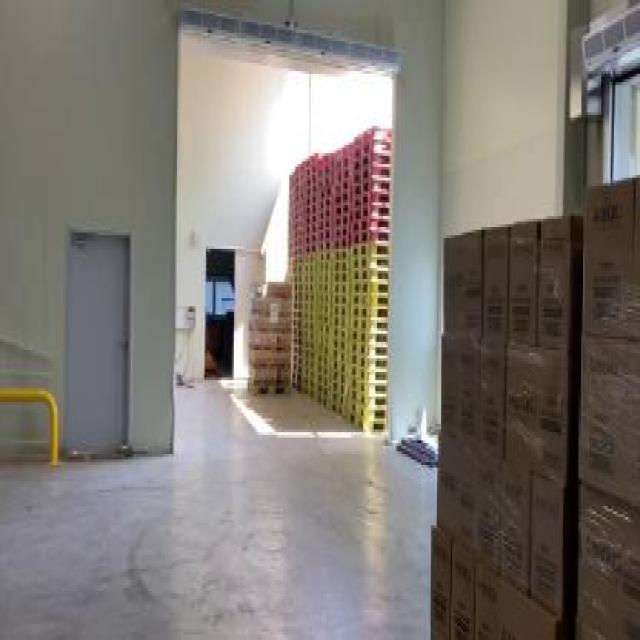box: (434, 175, 638, 637), (246, 279, 294, 397)
